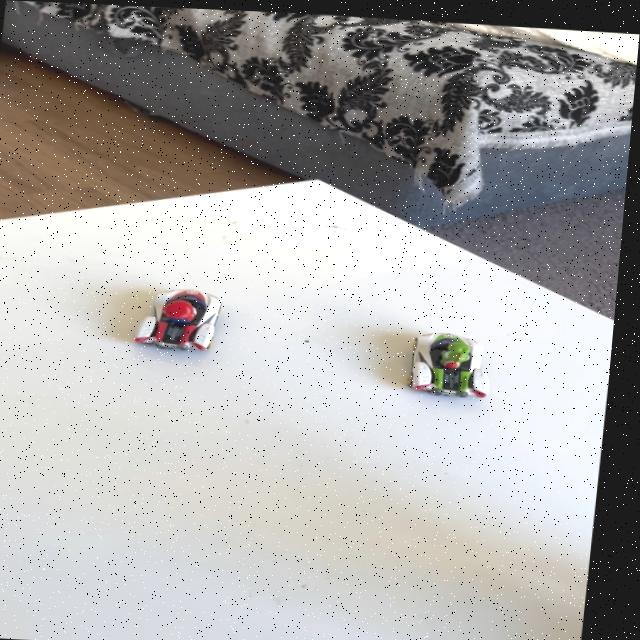mario: (118, 279, 246, 364)
yoshi: (391, 313, 513, 406)
